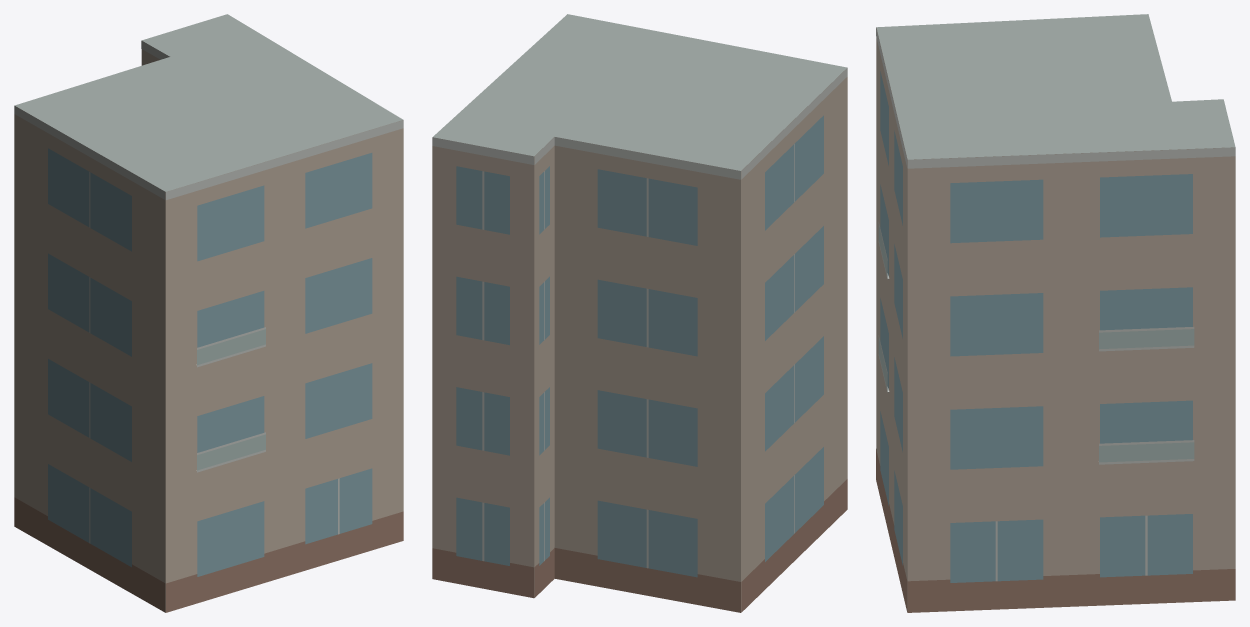
File: survey-upis-32952614.glb
The picture shows the model from 3 angles, left to right: view 1: azimuth 30°, elevation 25°; view 2: azimuth 150°, elevation 25°; view 3: azimuth 270°, elevation 25°; orthographic projection. The views are drawn at different scales.
Visible parts, largest first — view 1: survey-upis-32952614.tmp; view 2: survey-upis-32952614.tmp; view 3: survey-upis-32952614.tmp.
Boxes of the visible parts, x1,y1,x2,y2 form: survey-upis-32952614.tmp: (14, 14, 403, 612); survey-upis-32952614.tmp: (432, 14, 847, 612); survey-upis-32952614.tmp: (876, 14, 1235, 612).
Size of the model in its own units: 8.42 by 12.2 by 8.78.
